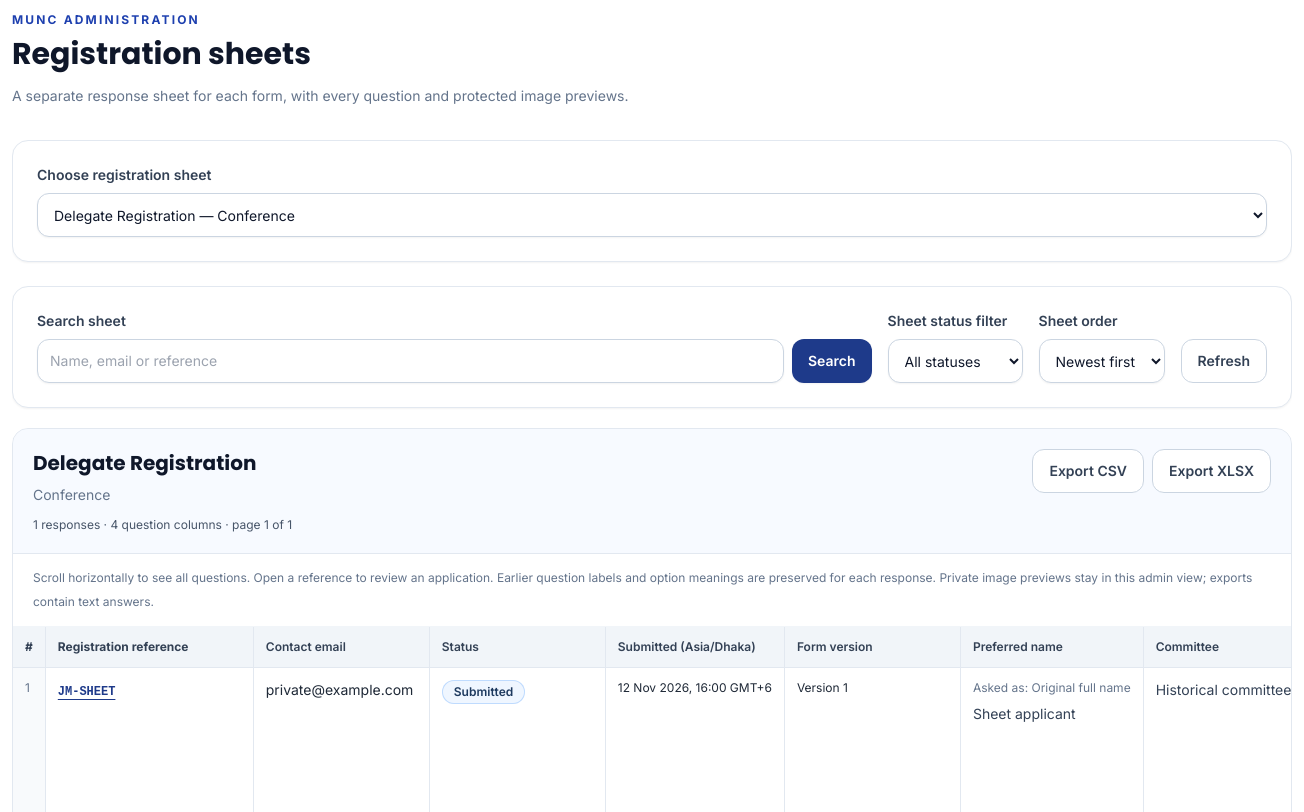
switches to a separate sheet with no applicant data from the previous form
Check: the text "Sheet applicant" is shown, box x1=973 y1=705 x2=1076 y2=722
Select "Executive Board — Conference" in the dropdown labelled "Choose registration sheet" at point(652, 215), box x1=37 y1=193 x2=1267 y2=237
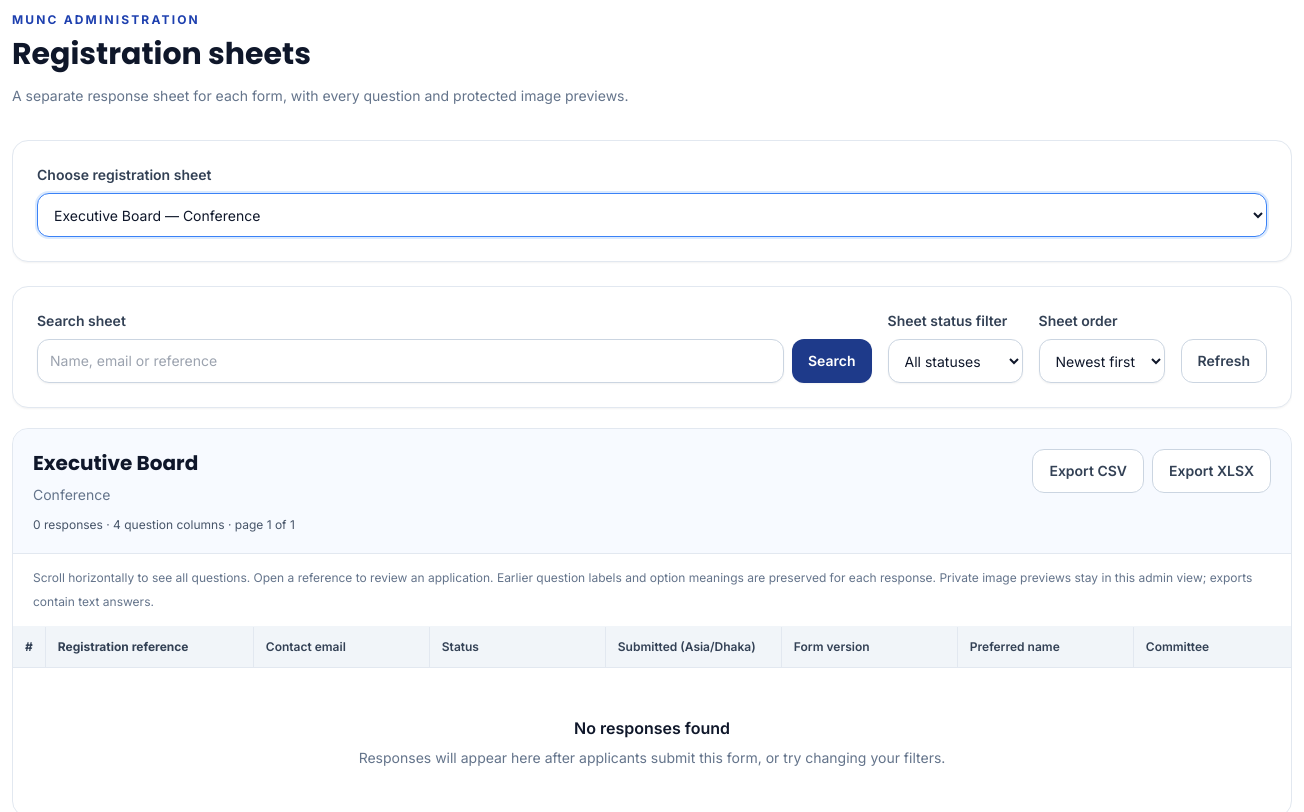
Check: the text "No responses found" is shown, box x1=574 y1=718 x2=730 y2=738
